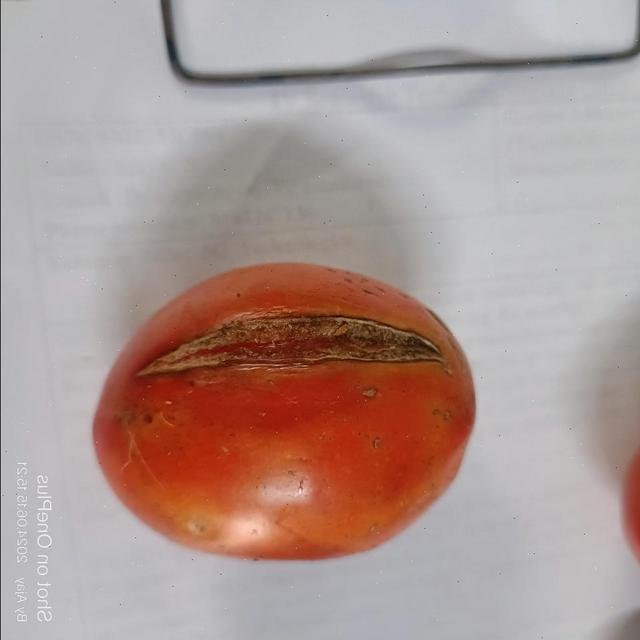Cracking Fruit: (150, 102, 287, 310)
